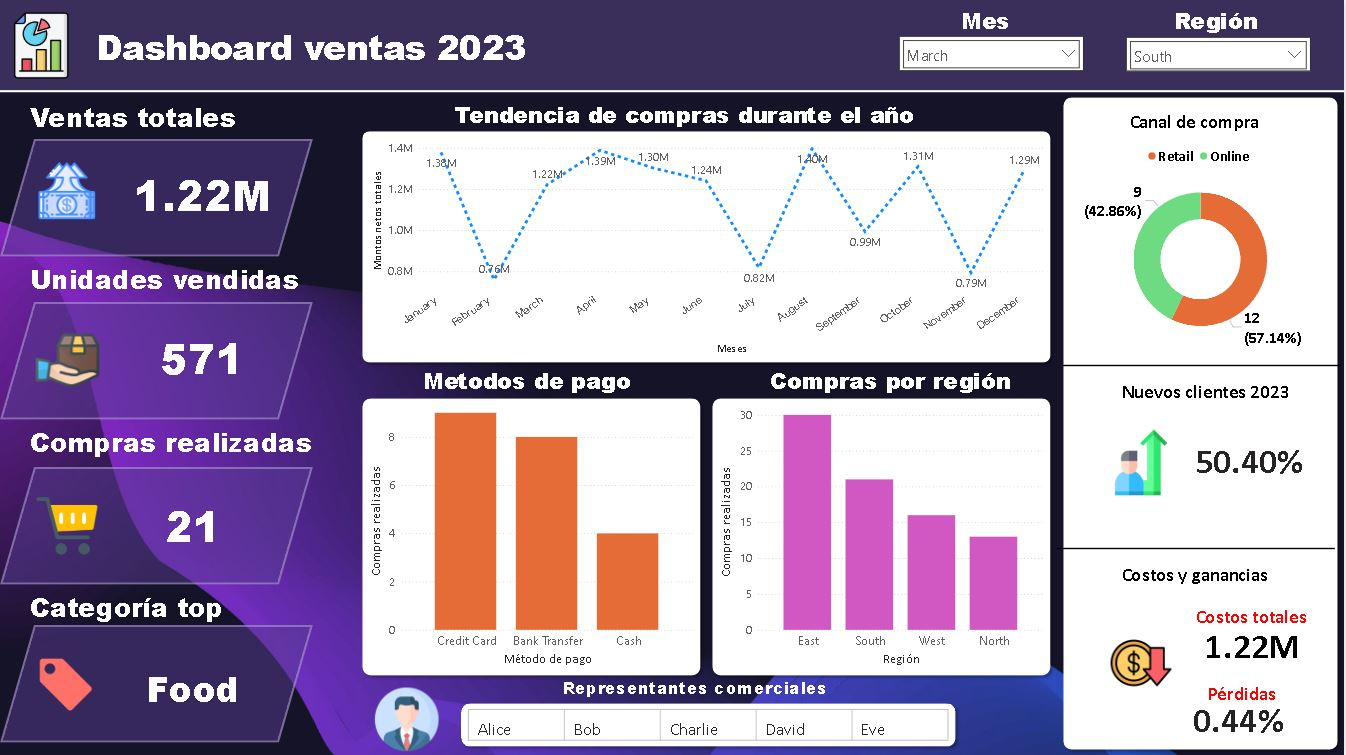

The dashboard page shown, as its layout file describes it:
{"tool":"powerbi","page":{"name":"Page 1","canvas":[1920,1080],"ordinal":0},"visuals":[{"type":"shape","box":[0,0,1920,130],"z":0},{"type":"slicer","fields":{"Values":["sales_data.Region"]},"box":[1608.8,52.7,263.6,49.3],"z":1000},{"type":"textbox","box":[1672,2,168,64],"z":2000},{"type":"shape","box":[0,124,1920,12],"z":3000},{"type":"image","box":[0,0,118.3,130],"z":4000},{"type":"textbox","box":[133.3,26.7,723.3,150],"z":5000},{"type":"slicer","fields":{"Values":["sales_data.NombreMes"]},"box":[1284,52,264,50],"z":6000},{"type":"textbox","box":[1367.1,1.4,115.7,65.7],"z":7000},{"type":"shape","box":[0,198.3,446.7,168.3],"z":8000},{"type":"cardVisual","fields":{"Data":["Sum(sales_data.VentasNetas)"]},"box":[132.9,210,315.7,124.3],"z":9000},{"type":"image","box":[20,227.1,150,91.4],"z":10000},{"type":"textbox","box":[36.7,135,428.3,75],"z":11000},{"type":"shape","box":[0,431.7,446.7,168.3],"z":12000},{"type":"cardVisual","fields":{"Data":["sales_data.TotalQuantity"]},"box":[131.4,442.9,315.7,122.9],"z":13000},{"type":"textbox","box":[36.7,366.7,416.7,75],"z":14000},{"type":"shape","box":[0,666.7,446.7,168.3],"z":15000},{"type":"image","box":[22.9,464.3,147.1,101.4],"z":16000},{"type":"cardVisual","fields":{"Data":["CountNonNull(sales_data.Product_ID)"]},"box":[118.6,682.9,315.7,122.9],"z":17000},{"type":"textbox","box":[36.7,600,445,75],"z":18000},{"type":"image","box":[26.7,703.3,136.7,96.7],"z":19000},{"type":"shape","box":[0,893.3,446.7,168.3],"z":20000},{"type":"cardVisual","fields":{"Data":["sales_data.Categoria top"]},"box":[105.7,921.4,341.4,111.4],"z":21000},{"type":"textbox","box":[36.7,835,445,75],"z":22000},{"type":"image","box":[50,930,88.3,95],"z":23000},{"type":"shape","box":[508.6,178.6,1001.4,348.6],"z":24000},{"type":"lineChart","fields":{"Category":["sales_data.Sale_Date.Variation.Date Hierarchy.Month","sales_data.Sale_Date.Variation.Date Hierarchy.Day"],"Y":["Sum(sales_data.VentasNetas)"]},"box":[525.7,194.3,972.9,317.1],"z":25000},{"type":"shape","box":[1510,130,410,950],"z":26000},{"type":"donutChart","fields":{"Category":["sales_data.Sales_Channel"],"Y":["CountNonNull(sales_data.Product_ID)"]},"box":[1522.9,198.6,384.3,307.1],"z":27000},{"type":"textbox","box":[644.3,135.7,705.7,74.3],"z":28000},{"type":"textbox","box":[1608.6,152.9,214.3,47.1],"z":29000},{"type":"cardVisual","fields":{"Data":["sales_data.Porcentaje_nuevos"]},"box":[1681.4,565.7,205.7,177.1],"z":30000},{"type":"image","box":[1567.1,608.6,125.7,104.3],"z":31000},{"type":"textbox","box":[1597.1,538.6,275.7,51.4],"z":32000},{"type":"cardVisual","fields":{"Data":["Sum(sales_data.CostoTotal)"]},"box":[1672.9,864.3,234.3,110],"z":33000},{"type":"cardVisual","fields":{"Data":["sales_data.Ganancia Total %"]},"box":[1651.4,977.1,235.7,85.7],"z":34000},{"type":"textbox","box":[1702.9,860,211.4,51.4],"z":35000},{"type":"textbox","box":[1720,970,127.1,50],"z":36000},{"type":"image","box":[1578.6,898.6,102.9,97.1],"z":37000},{"type":"shape","box":[1517.1,505.7,397.1,32.9],"z":38000},{"type":"textbox","box":[1597.1,800,255.7,54.3],"z":39000},{"type":"shape","box":[1510,767.1,397.1,32.9],"z":40000},{"type":"shape","box":[508.6,560,501.4,414.3],"z":41000},{"type":"clusteredColumnChart","fields":{"Category":["sales_data.Payment_Method"],"Y":["CountNonNull(sales_data.Product_ID)"]},"box":[522.9,575.7,474.3,381.4],"z":42000},{"type":"textbox","box":[598.6,515.7,347.1,74.3],"z":43000},{"type":"textbox","box":[798.6,960,450,50],"z":45000},{"type":"image","box":[508.6,977.1,144.3,101.4],"z":46000},{"type":"shape","box":[650,995.7,724.3,80],"z":47000},{"type":"advancedSlicerVisual","fields":{"Values":["sales_data.Sales_Rep"]},"box":[665.7,1010,692.9,51.4],"z":47001},{"type":"textbox","box":[1094.3,515.7,388.6,74.3],"z":47004},{"type":"shape","box":[1008.6,560,501.4,414.3],"z":47005},{"type":"clusteredColumnChart","fields":{"Category":["sales_data.Region"],"Y":["CountNonNull(sales_data.Product_ID)"]},"box":[1022.9,575.7,474.3,381.4],"z":47006}]}

Visuals, with their boxes in screenshot pixels (x1, y1, x2, y2), scaled from the page's 1920x1080 canvas onto the 1346x755 screenshot:
shape: x1=0, y1=0, x2=1345, y2=91
slicer - sales_data.Region: x1=1128, y1=37, x2=1313, y2=71
textbox: x1=1172, y1=1, x2=1290, y2=46
shape: x1=0, y1=87, x2=1345, y2=95
image: x1=0, y1=0, x2=83, y2=91
textbox: x1=93, y1=19, x2=601, y2=124
slicer - sales_data.NombreMes: x1=900, y1=36, x2=1085, y2=71
textbox: x1=958, y1=1, x2=1040, y2=47
shape: x1=0, y1=139, x2=313, y2=256
cardVisual - Sum(sales_data.VentasNetas): x1=93, y1=147, x2=314, y2=234
image: x1=14, y1=159, x2=119, y2=223
textbox: x1=26, y1=94, x2=326, y2=147
shape: x1=0, y1=302, x2=313, y2=419
cardVisual - sales_data.TotalQuantity: x1=92, y1=310, x2=313, y2=396
textbox: x1=26, y1=256, x2=318, y2=309
shape: x1=0, y1=466, x2=313, y2=584
image: x1=16, y1=325, x2=119, y2=395
cardVisual - CountNonNull(sales_data.Product_ID): x1=83, y1=477, x2=304, y2=563
textbox: x1=26, y1=419, x2=338, y2=472
image: x1=19, y1=492, x2=115, y2=559
shape: x1=0, y1=624, x2=313, y2=742
cardVisual - sales_data.Categoria top: x1=74, y1=644, x2=313, y2=722
textbox: x1=26, y1=584, x2=338, y2=636
image: x1=35, y1=650, x2=97, y2=717
shape: x1=357, y1=125, x2=1059, y2=369
lineChart - sales_data.Sale_Date.Variation.Date Hierarchy.Month x sales_data.Sale_Date.Variation.Date Hierarchy.Day: x1=369, y1=136, x2=1051, y2=358
shape: x1=1059, y1=91, x2=1345, y2=754
donutChart - sales_data.Sales_Channel x CountNonNull(sales_data.Product_ID): x1=1068, y1=139, x2=1337, y2=354
textbox: x1=452, y1=95, x2=946, y2=147
textbox: x1=1128, y1=107, x2=1278, y2=140
cardVisual - sales_data.Porcentaje_nuevos: x1=1179, y1=395, x2=1323, y2=519
image: x1=1099, y1=425, x2=1187, y2=498
textbox: x1=1120, y1=377, x2=1313, y2=412
cardVisual - Sum(sales_data.CostoTotal): x1=1173, y1=604, x2=1337, y2=681
cardVisual - sales_data.Ganancia Total %: x1=1158, y1=683, x2=1323, y2=743
textbox: x1=1194, y1=601, x2=1342, y2=637
textbox: x1=1206, y1=678, x2=1295, y2=713
image: x1=1107, y1=628, x2=1179, y2=696
shape: x1=1064, y1=354, x2=1342, y2=377
textbox: x1=1120, y1=559, x2=1299, y2=597
shape: x1=1059, y1=536, x2=1337, y2=559
shape: x1=357, y1=391, x2=708, y2=681
clusteredColumnChart - sales_data.Payment_Method x CountNonNull(sales_data.Product_ID): x1=367, y1=402, x2=699, y2=669
textbox: x1=420, y1=361, x2=663, y2=412
textbox: x1=560, y1=671, x2=875, y2=706
image: x1=357, y1=683, x2=458, y2=754
shape: x1=456, y1=696, x2=963, y2=752
advancedSlicerVisual - sales_data.Sales_Rep: x1=467, y1=706, x2=952, y2=742
textbox: x1=767, y1=361, x2=1040, y2=412
shape: x1=707, y1=391, x2=1059, y2=681
clusteredColumnChart - sales_data.Region x CountNonNull(sales_data.Product_ID): x1=717, y1=402, x2=1050, y2=669
